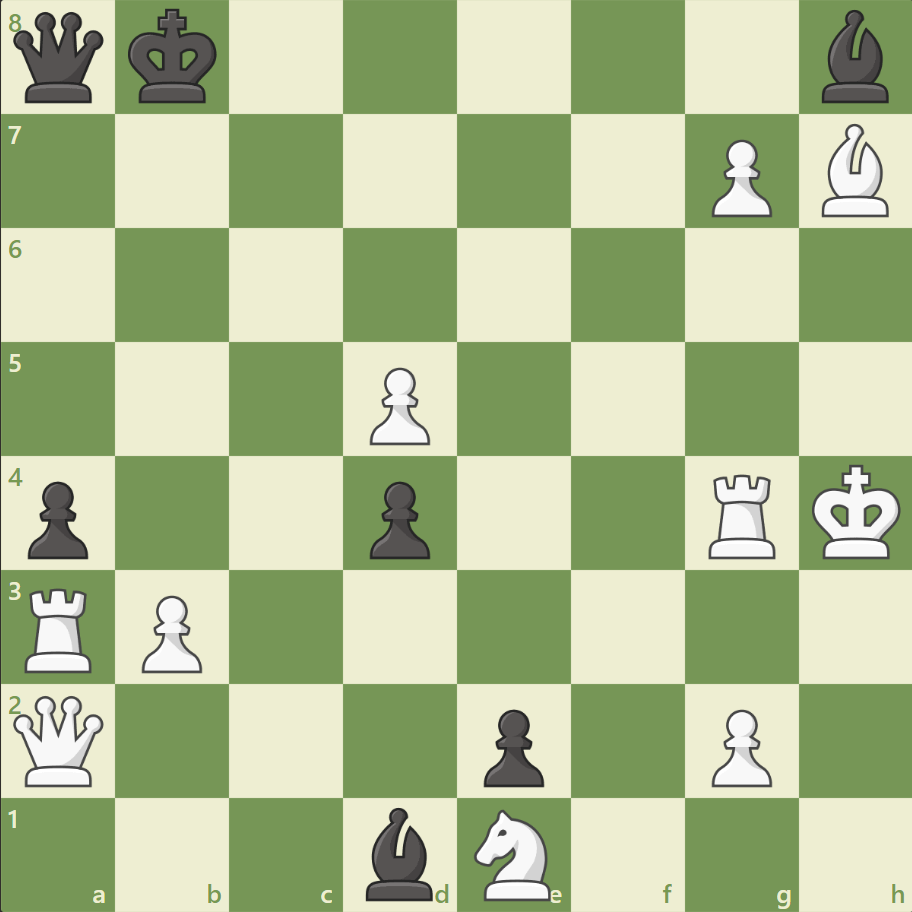B: (812, 120, 896, 222)
K: (806, 458, 906, 566)
N: (465, 802, 562, 904)
P: (701, 132, 776, 223), (133, 586, 208, 677), (701, 700, 776, 791), (361, 359, 435, 450)
Q: (10, 690, 109, 789)
R: (700, 466, 783, 563), (19, 579, 102, 676)
b: (812, 6, 896, 109), (358, 801, 442, 904)
k: (124, 4, 224, 112)
p: (20, 473, 95, 564), (474, 700, 549, 791), (361, 473, 435, 564)
q: (10, 9, 109, 108)
